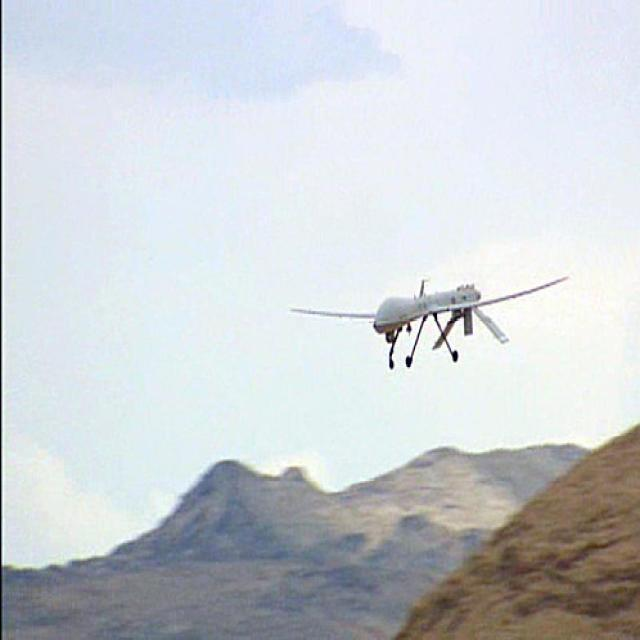iha: (288, 305, 569, 340)
